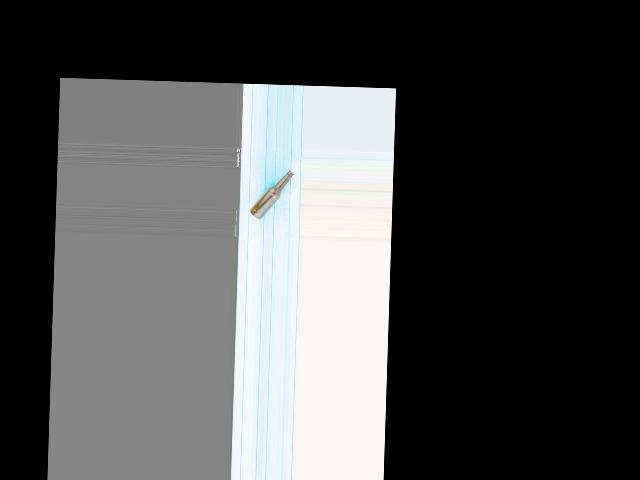beer: (248, 169, 294, 220)
